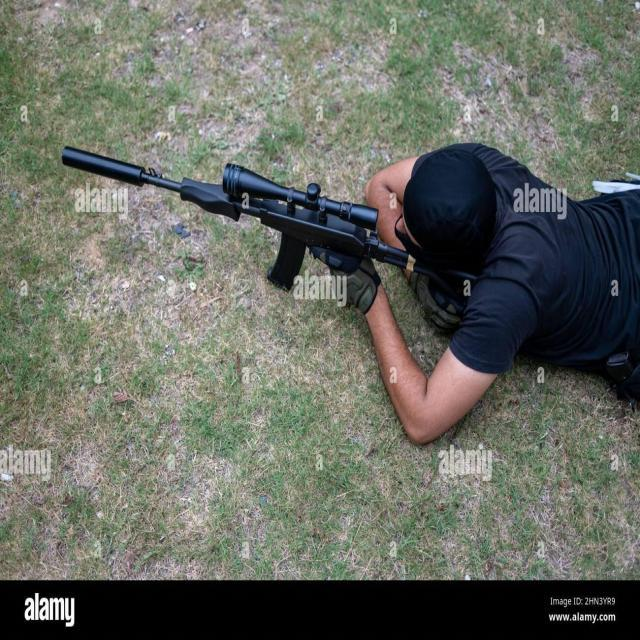gun: (60, 146, 476, 309)
